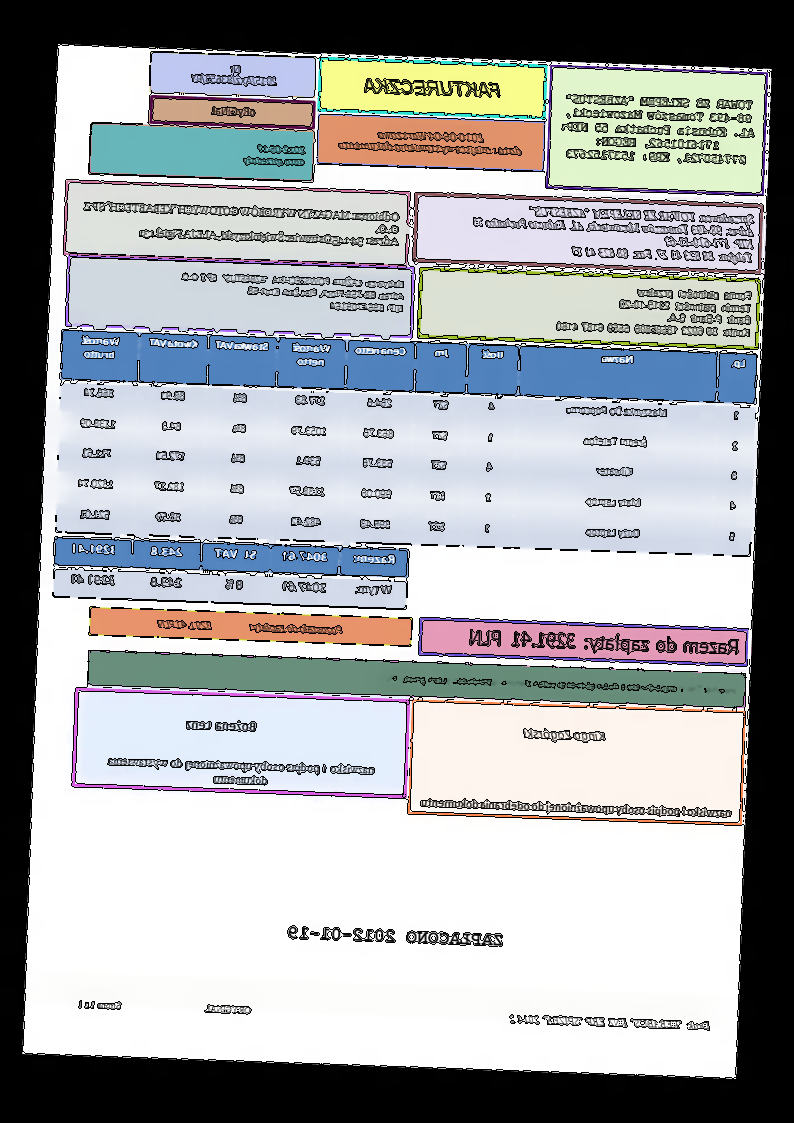Table: (54, 328, 758, 557), (53, 535, 410, 610)
TextBox: (471, 201, 756, 264), (82, 199, 402, 250), (560, 92, 758, 166), (554, 283, 753, 339), (177, 269, 408, 316), (107, 754, 376, 791), (376, 671, 739, 698), (468, 626, 740, 657), (422, 793, 734, 820), (336, 127, 525, 158), (286, 923, 505, 948), (507, 1011, 712, 1033), (155, 616, 345, 638), (362, 74, 503, 100), (77, 997, 253, 1017), (189, 60, 279, 88), (522, 724, 608, 745), (242, 141, 307, 168), (183, 717, 258, 734), (209, 103, 257, 118)
